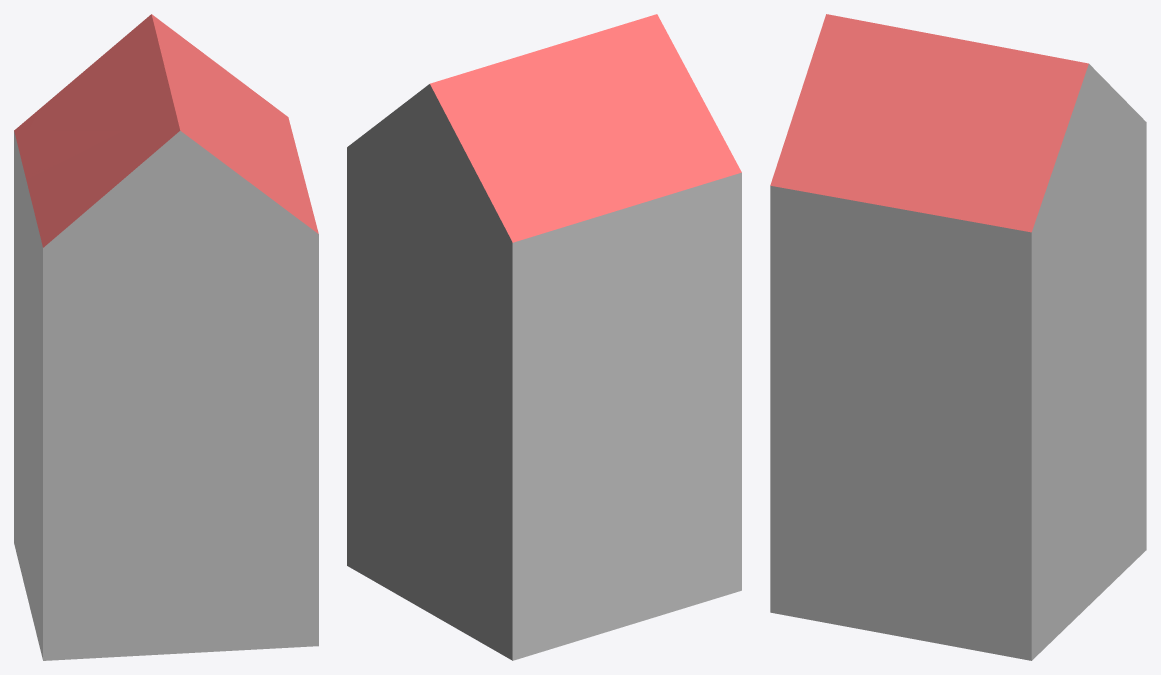
File: DEBY_LOD2_60095.gltf
3 renders of one model, left to right at view 1: azimuth 30°, elevation 25°; view 2: azimuth 150°, elevation 25°; view 3: azimuth 270°, elevation 25°, orthographic. The views are drawn at different scales.
Parts seen in each view (by area): view 1: Z_UP; view 2: Z_UP; view 3: Z_UP.
Boxes of the visible parts, left/top/right/bottom form: Z_UP: left=14, top=14, right=318, bottom=660; Z_UP: left=347, top=14, right=741, bottom=660; Z_UP: left=770, top=14, right=1146, bottom=660.
Size of the model in its own units: 15.18 by 23.88 by 15.03.
